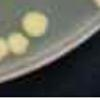yellow: (18, 9, 52, 39), (6, 31, 31, 55), (0, 36, 11, 61), (88, 0, 100, 10)
